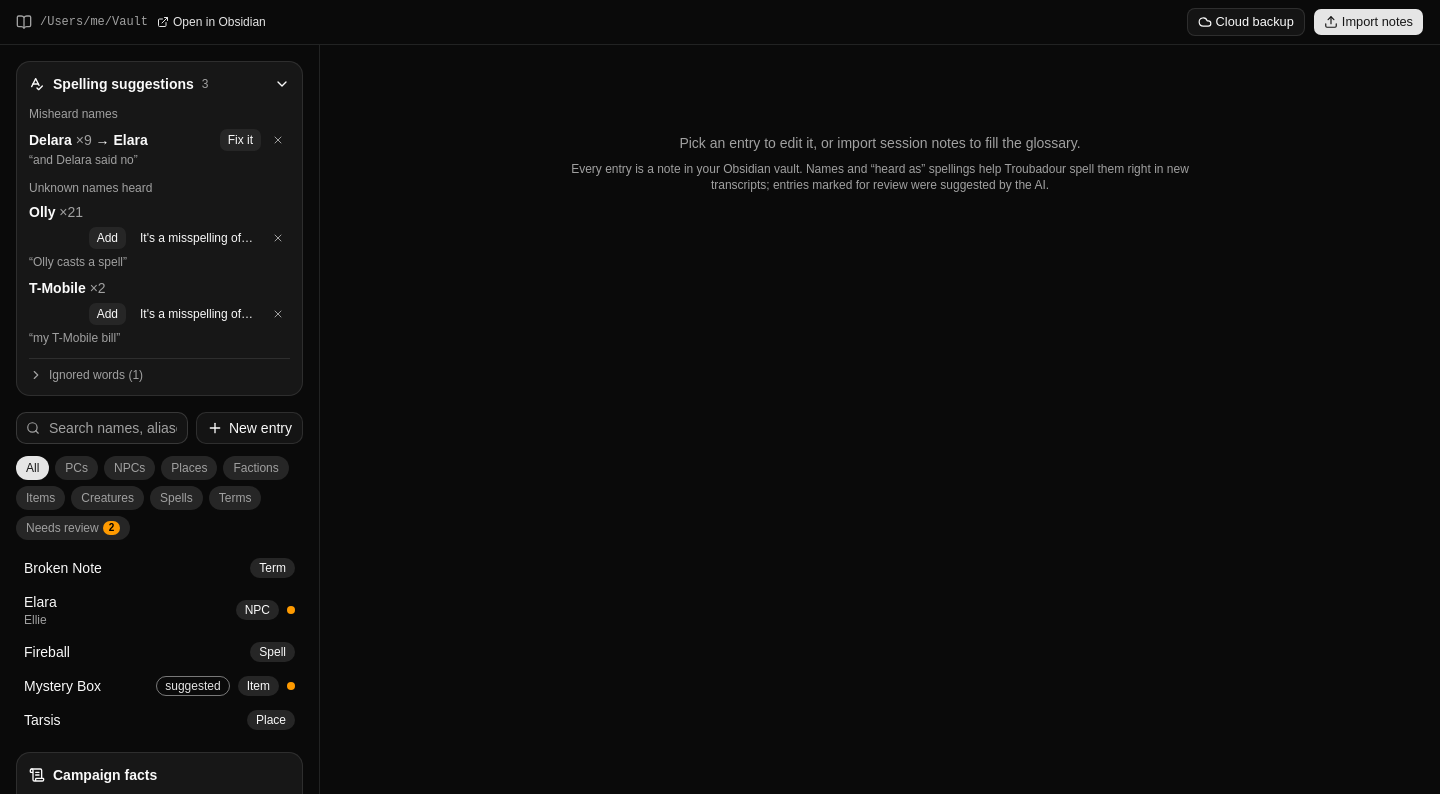
Scenario: entry editor › two rapid chip adds: the second PATCH is built from the first one's result
Click the button "Elara Ellie NPC" at (40,602), box [16,586,303,634]
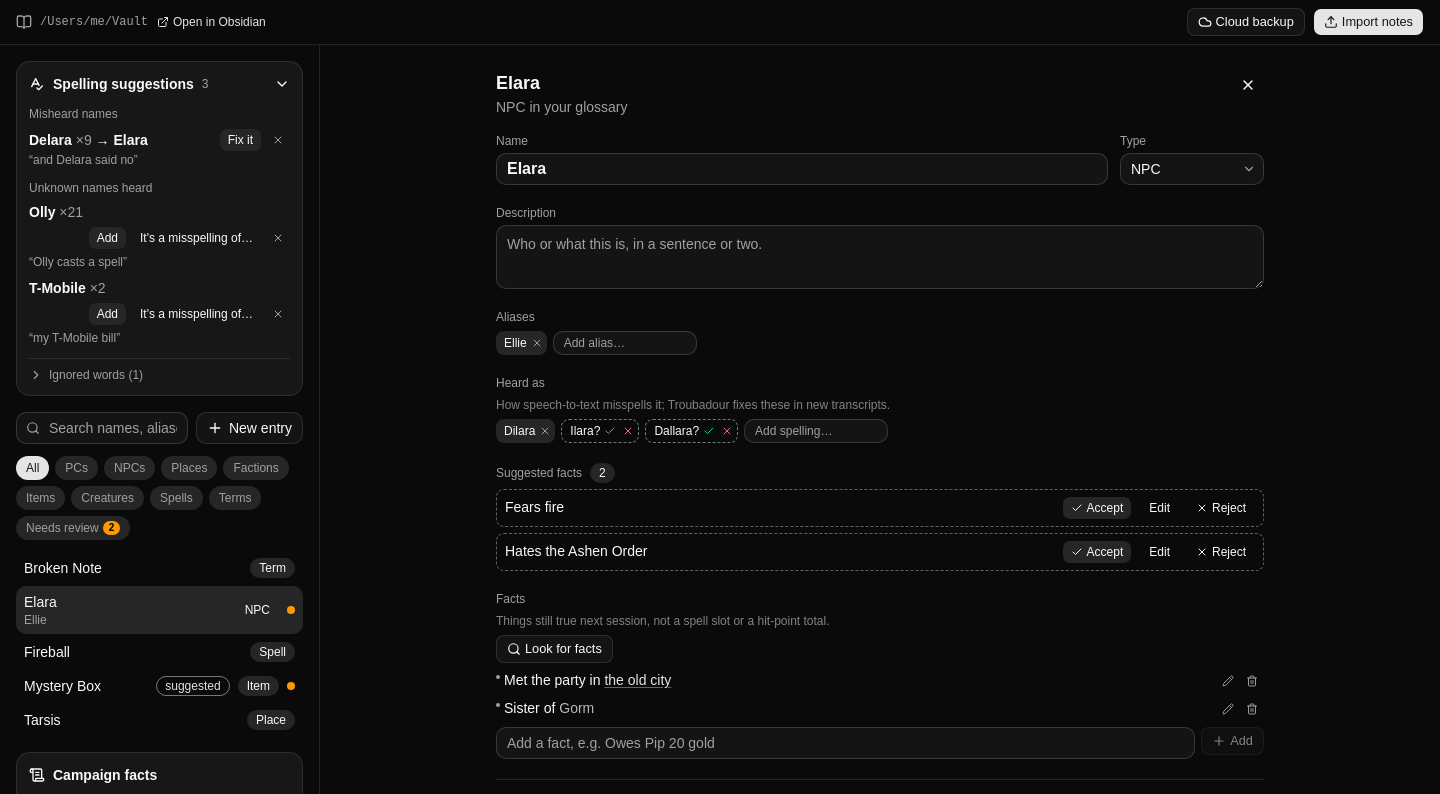
Type "Lara" into the field labelled "Add alias" at (625,343), box [553,331,697,355]
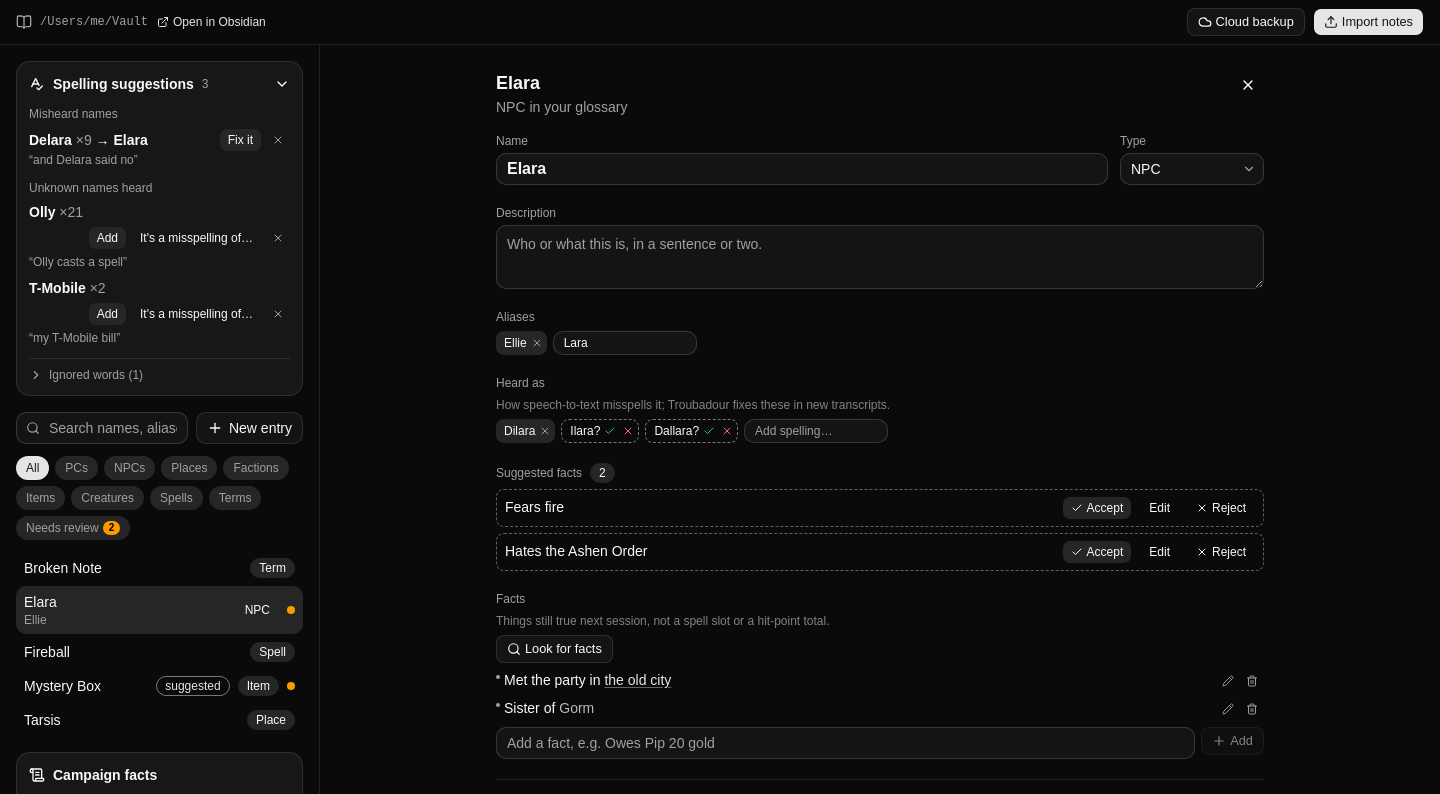
Press Enter in the field named "Add alias", box [553,331,697,355]
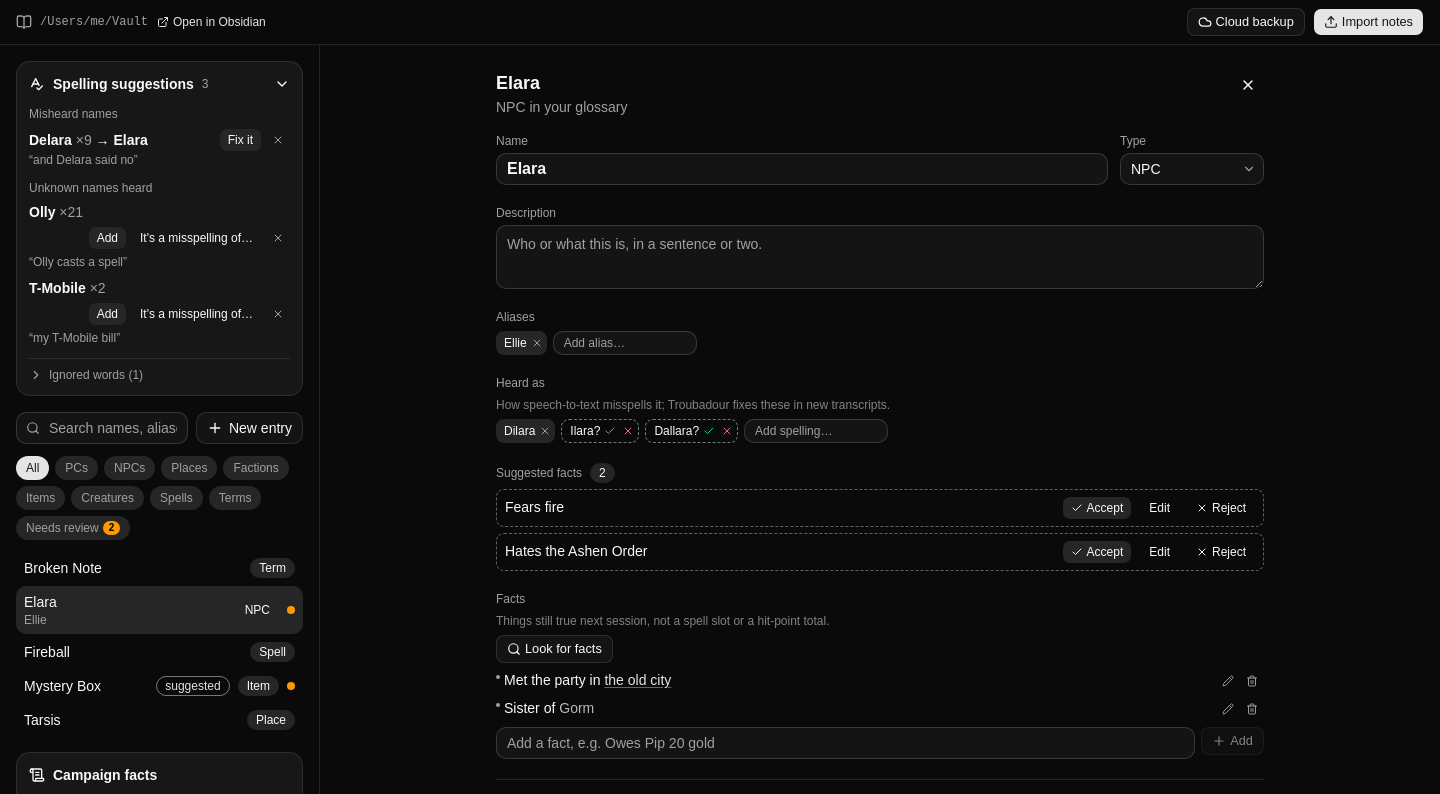
Type "El" into the field labelled "Add alias" at (625,343), box [553,331,697,355]
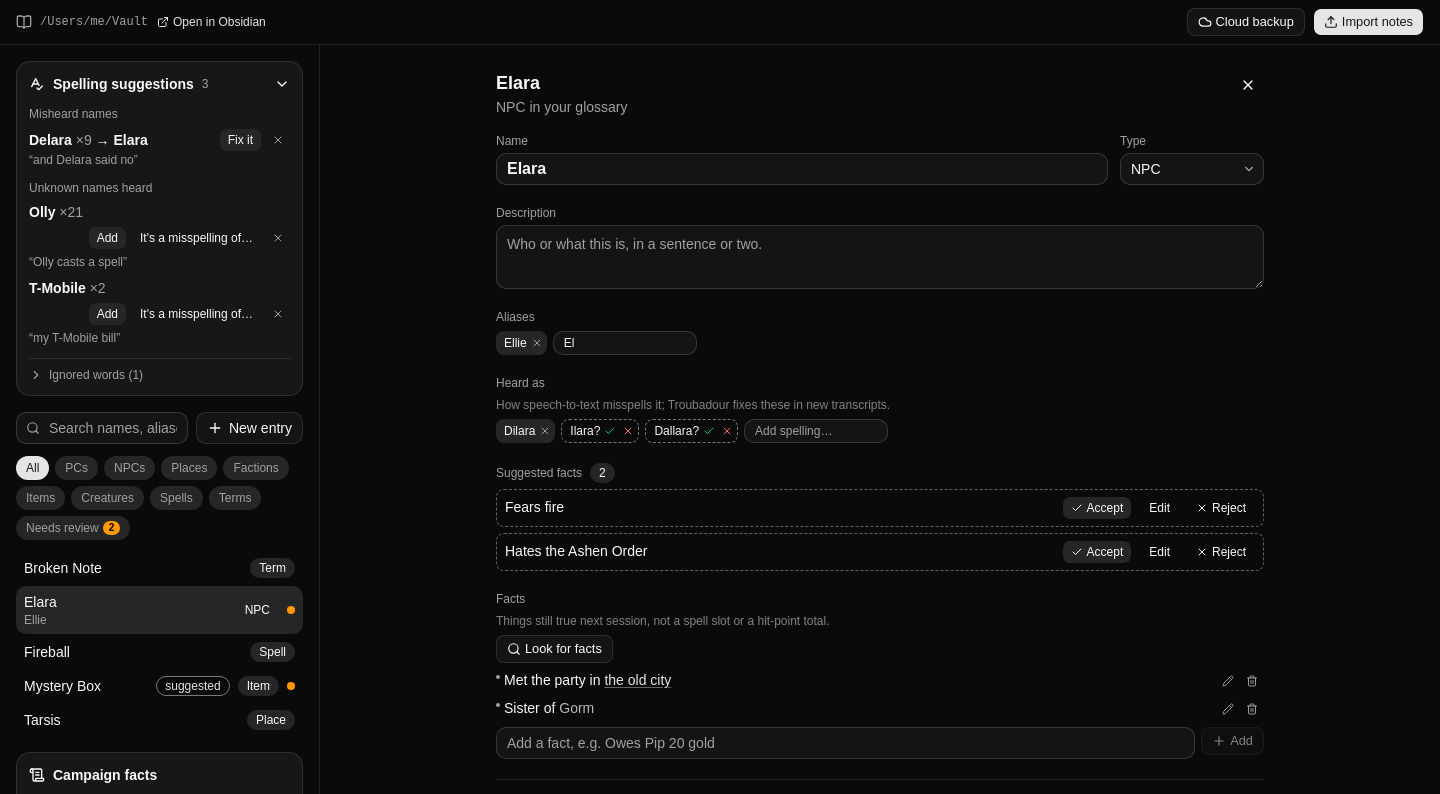
Press Enter in the field named "Add alias", box [553,331,697,355]
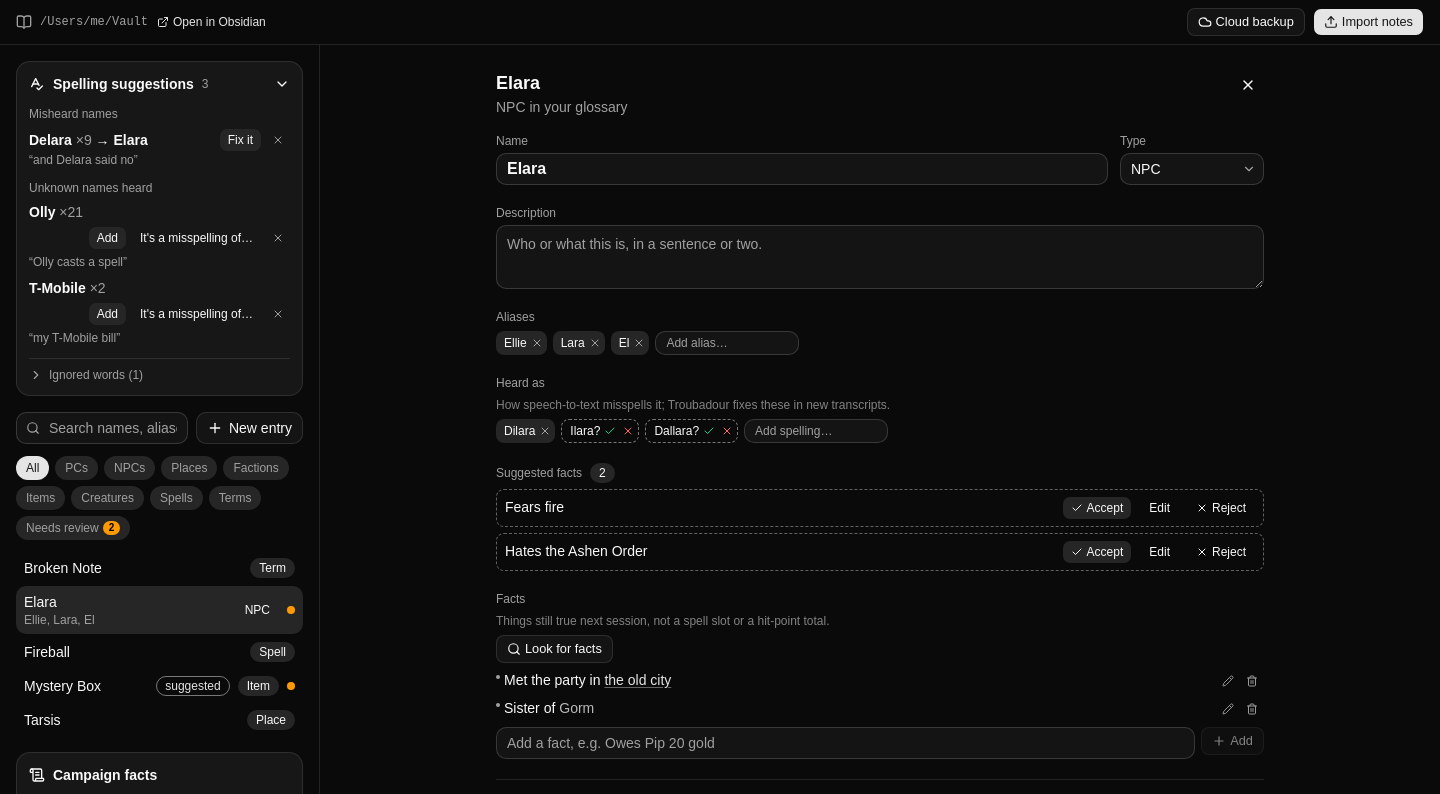
Expected: the button named "Remove alias El" is shown, [631,335,647,351]
